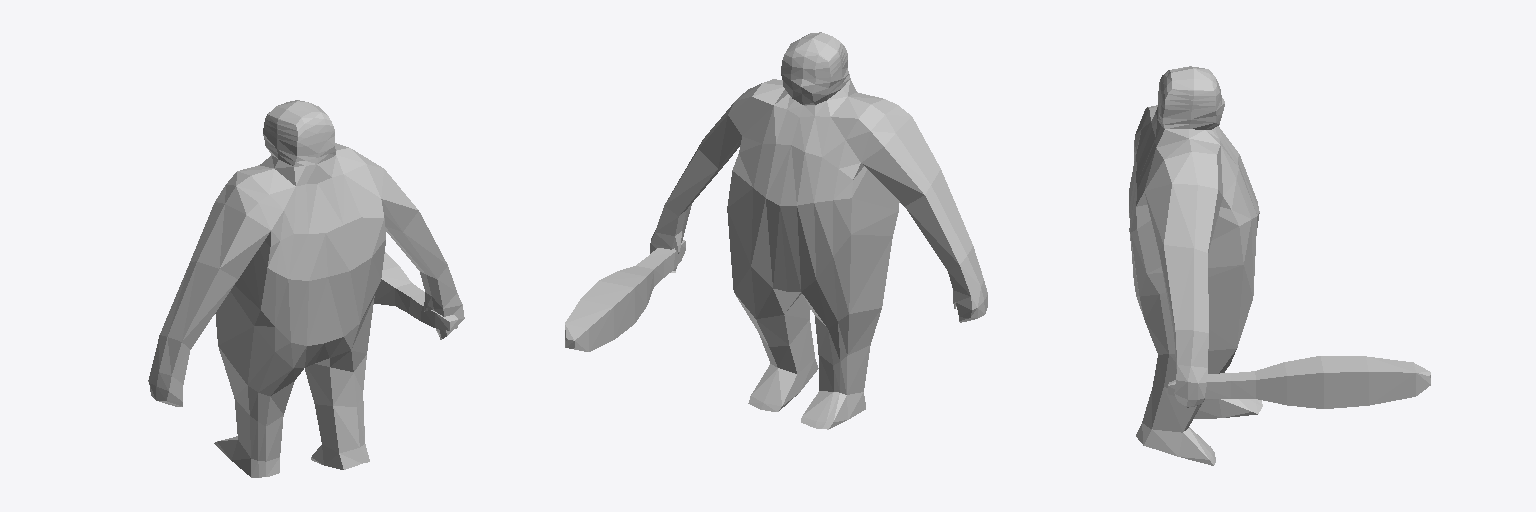
File: Enemigo226.obj
3 views of the same model, side by side, from view 1: azimuth 30°, elevation 25°; view 2: azimuth 150°, elevation 25°; view 3: azimuth 270°, elevation 25° (orthographic).
Visible parts, largest first — view 1: Cube; view 2: Cube; view 3: Cube.
Boxes of the visible parts, box(x1,y1,x2,y2) form: Cube: box(148, 100, 464, 477); Cube: box(565, 32, 987, 429); Cube: box(1129, 66, 1430, 465).
Size of the model in its own units: 2.52 by 2.83 by 2.08.